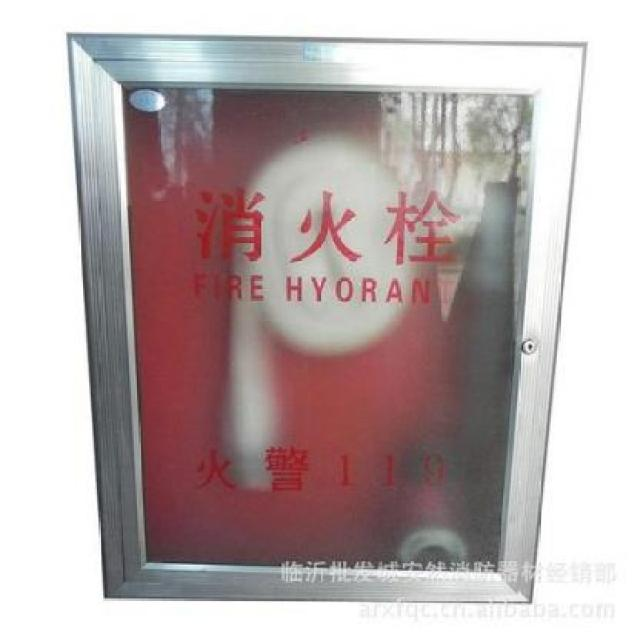firehydrant: (63, 26, 596, 610)
